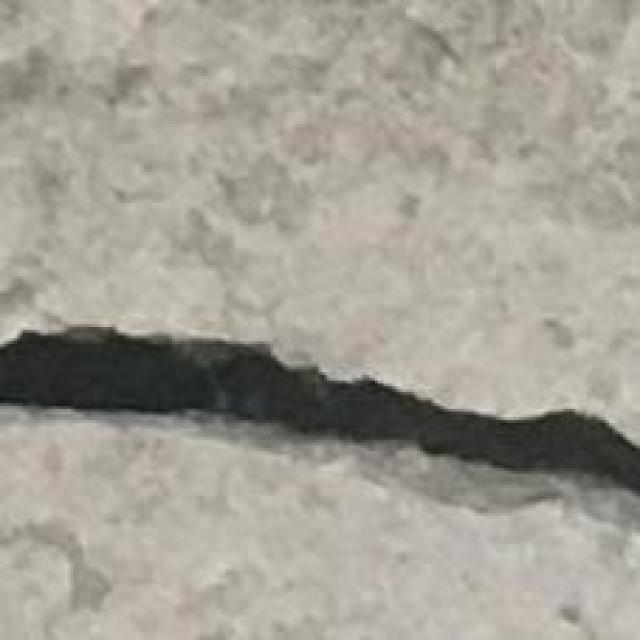horizontal crack: (0, 327, 639, 499)
